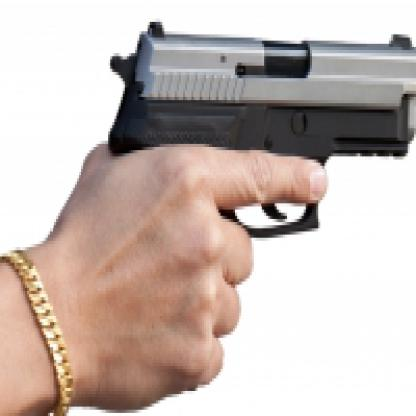gun: (79, 6, 414, 300)
